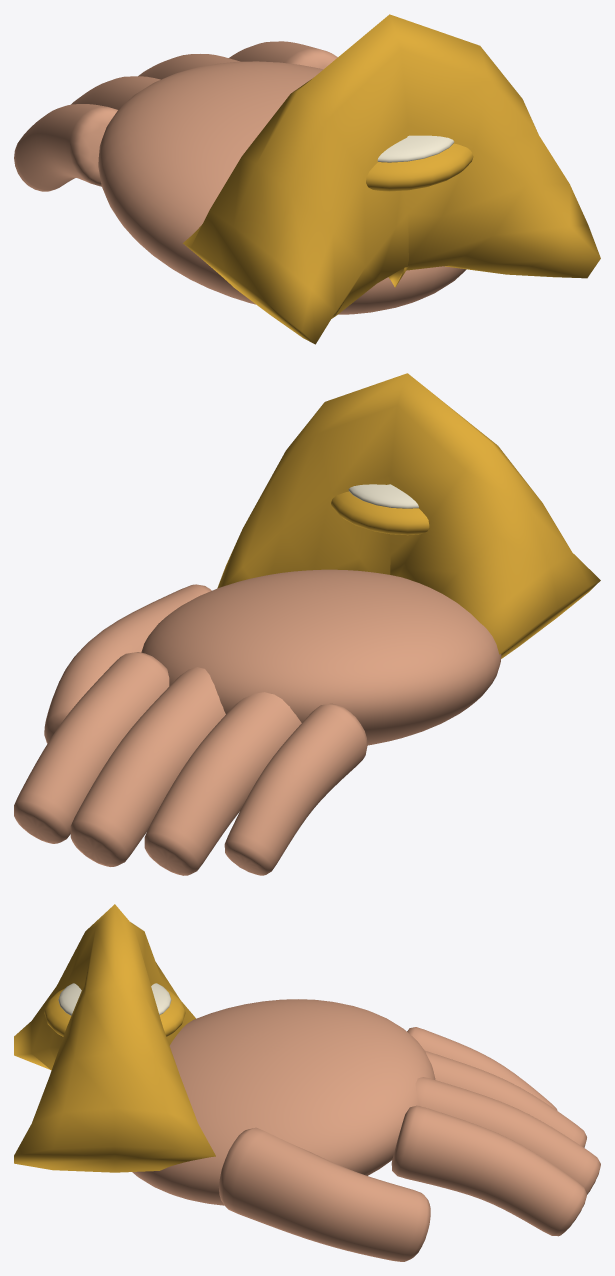
The model's file is local_hand_left.glb.
The picture shows the model from 3 angles, top to bottom: view 1: azimuth 30°, elevation 25°; view 2: azimuth 150°, elevation 25°; view 3: azimuth 270°, elevation 25°; orthographic projection. The views are drawn at different scales.
Parts seen in each view (by area): view 1: WatchBandL.001, PalmL.004, FingerPinkyL.004, WatchCaseL.001, FingerIndexL.004, FingerRingL.004, WatchFaceL.001, FingerMiddleL.004; view 2: WatchBandL.001, PalmL.004, FingerMiddleL.004, FingerRingL.004, FingerIndexL.004, FingerPinkyL.004, ThumbL.004, WatchCaseL.001, WatchFaceL.001; view 3: PalmL.004, WatchBandL.001, ThumbL.004, FingerIndexL.004, FingerMiddleL.004, FingerRingL.004, FingerPinkyL.004, WatchCaseL.001, WatchFaceL.001.
Part boxes in pixels (x1,y1,x2,y2): WatchBandL.001: (183, 14, 600, 344); PalmL.004: (98, 61, 466, 314); FingerPinkyL.004: (14, 104, 117, 191); WatchCaseL.001: (366, 143, 473, 191); FingerIndexL.004: (229, 41, 337, 69); FingerRingL.004: (71, 76, 160, 109); WatchFaceL.001: (377, 135, 454, 162); FingerMiddleL.004: (138, 54, 239, 79); WatchBandL.001: (217, 373, 600, 658); PalmL.004: (141, 569, 501, 745); FingerMiddleL.004: (70, 667, 225, 866); FingerRingL.004: (144, 692, 301, 875); FingerIndexL.004: (14, 652, 169, 843); FingerPinkyL.004: (224, 703, 367, 875); ThumbL.004: (44, 584, 211, 743); WatchCaseL.001: (331, 491, 429, 535); WatchFaceL.001: (348, 484, 418, 508); PalmL.004: (132, 999, 435, 1205); WatchBandL.001: (14, 904, 215, 1172); ThumbL.004: (218, 1127, 430, 1261); FingerIndexL.004: (391, 1105, 586, 1236); FingerMiddleL.004: (415, 1077, 600, 1194); FingerRingL.004: (425, 1051, 586, 1147); FingerPinkyL.004: (407, 1027, 557, 1110); WatchCaseL.001: (44, 988, 185, 1036); WatchFaceL.001: (58, 983, 171, 1015).
Size of the model in its own units: 0.1052 by 0.0888 by 0.1659.
